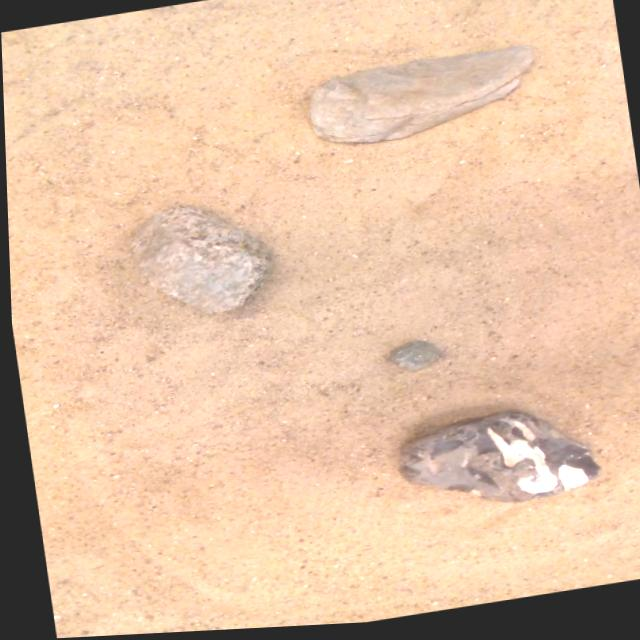rock: (308, 52, 531, 147), (395, 417, 592, 508), (130, 208, 264, 316), (385, 345, 436, 375)
